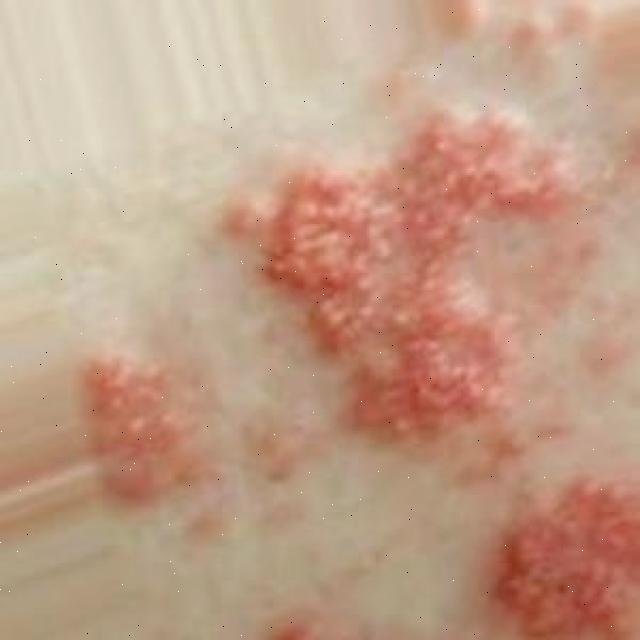Shingles: (88, 2, 640, 640)
